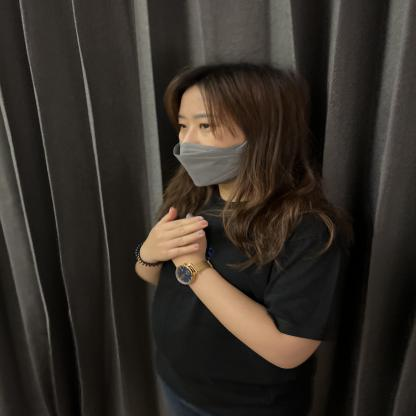Grieve: (124, 207, 266, 318)
